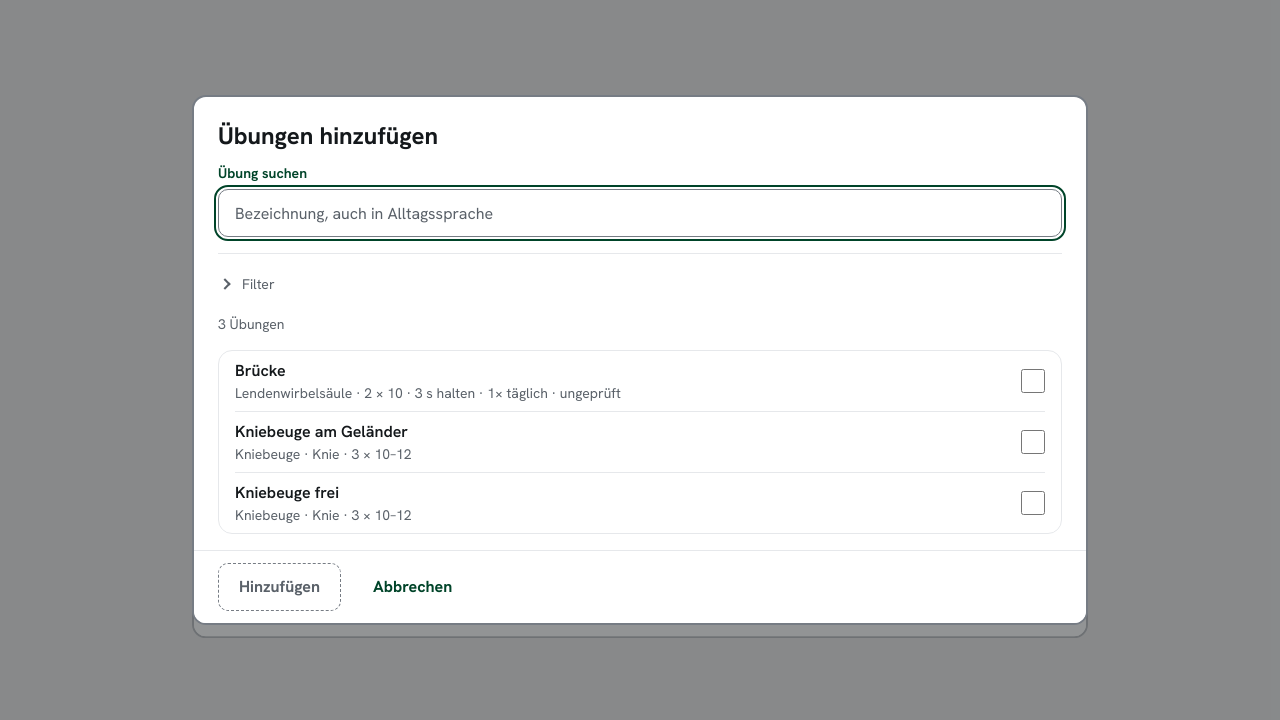
Test: Uebungsauswahl › sucht auch ohne Umlaute und behält die Wahl über die Suche hinweg
Click the checkbox labelled "Kniebeuge frei Kniebeuge · Knie · 3 × 10–12" at coordinates (1033, 503), box 1021,491 -> 1045,515
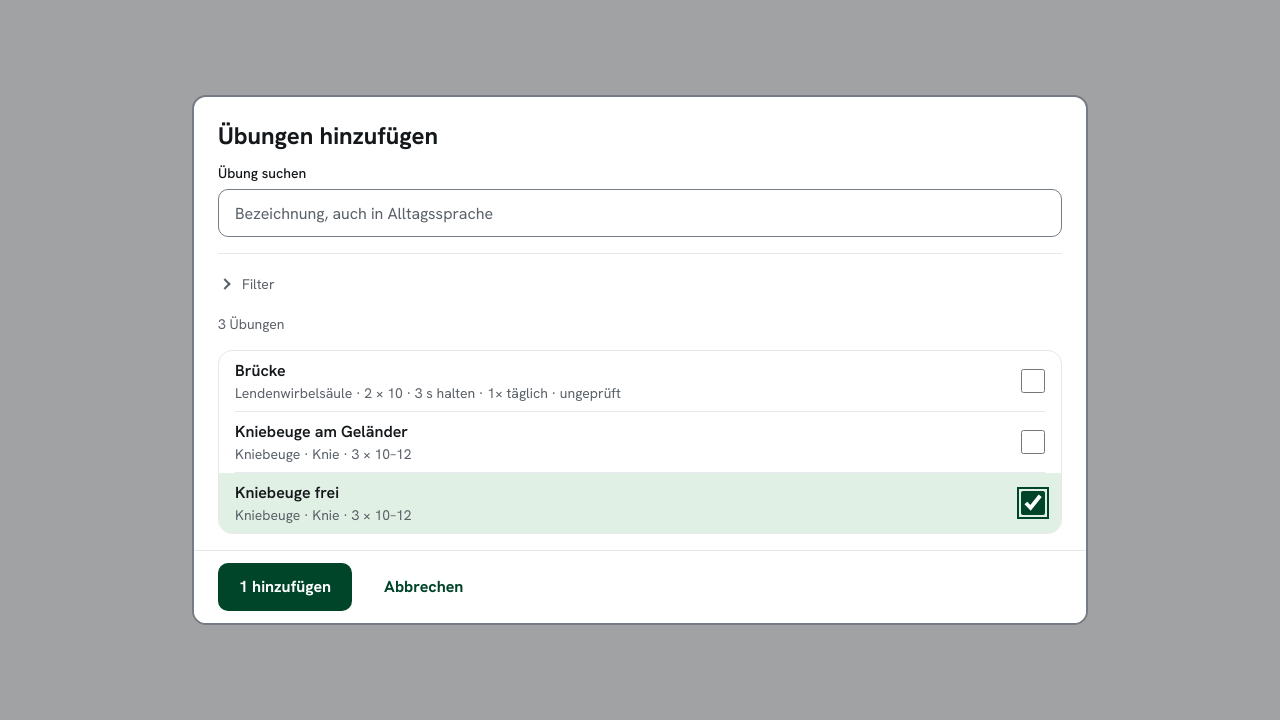
Type "bruecke" into the search field labelled "Übung suchen" at coordinates (640, 213), box 218,189 -> 1062,237
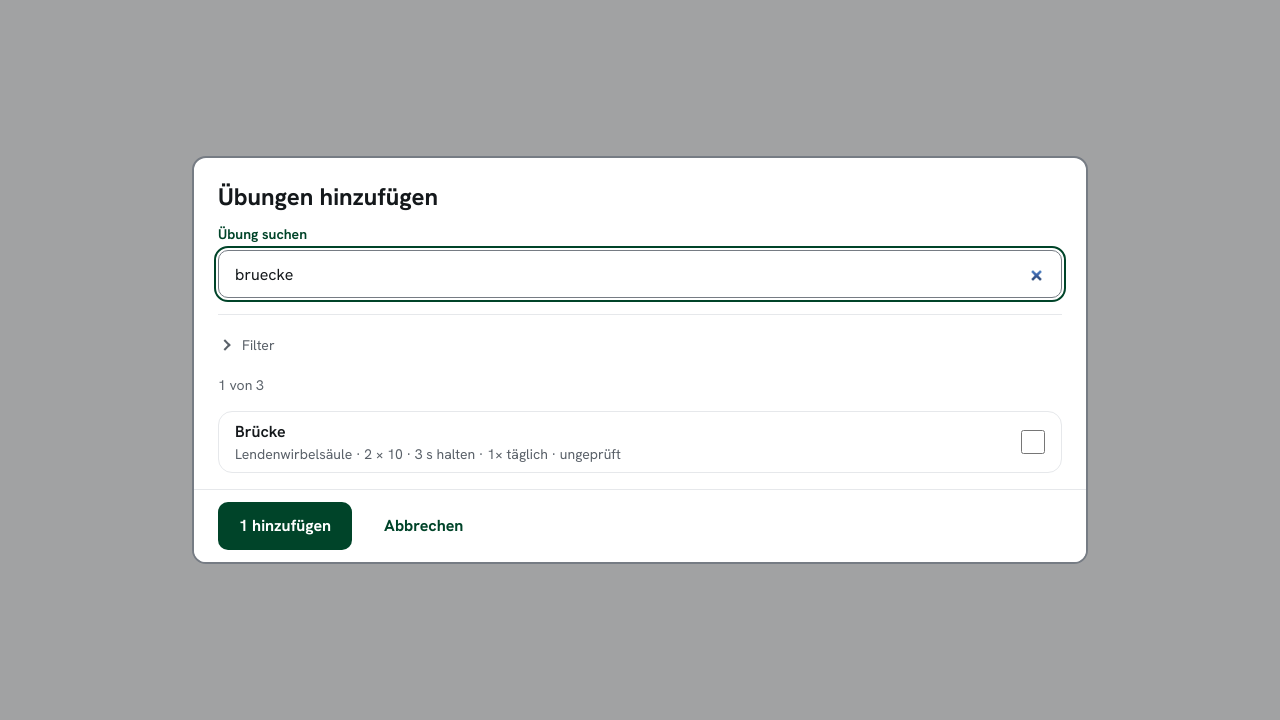
Expected: the number of checkboxes is 1, 1021,430 -> 1045,454
Now the button "1 hinzufügen" is enabled, box 218,502 -> 352,550
Now the text "1 von 3" is shown, box 218,376 -> 264,394
